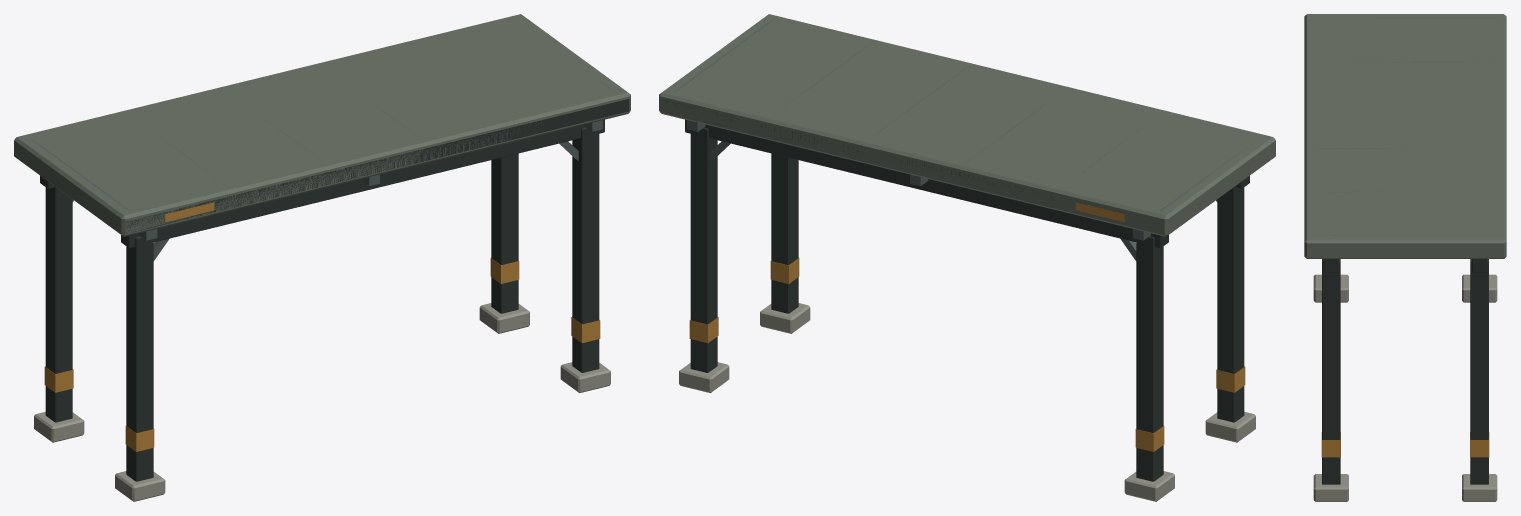
The model's file is CheckpointCanopy.glb.
3 renders of one model, left to right at view 1: azimuth 30°, elevation 25°; view 2: azimuth 150°, elevation 25°; view 3: azimuth 270°, elevation 25°, orthographic. The views are drawn at different scales.
Visible parts, largest first — view 1: CheckpointCanopy_Export; view 2: CheckpointCanopy_Export; view 3: CheckpointCanopy_Export.
Part boxes in pixels (x1,y1,x2,y2): CheckpointCanopy_Export: [14, 14, 630, 501]; CheckpointCanopy_Export: [659, 14, 1275, 501]; CheckpointCanopy_Export: [1304, 14, 1506, 501].
Size of the model in its own units: 8 by 4.4 by 3.
1 material, 1 textured.
